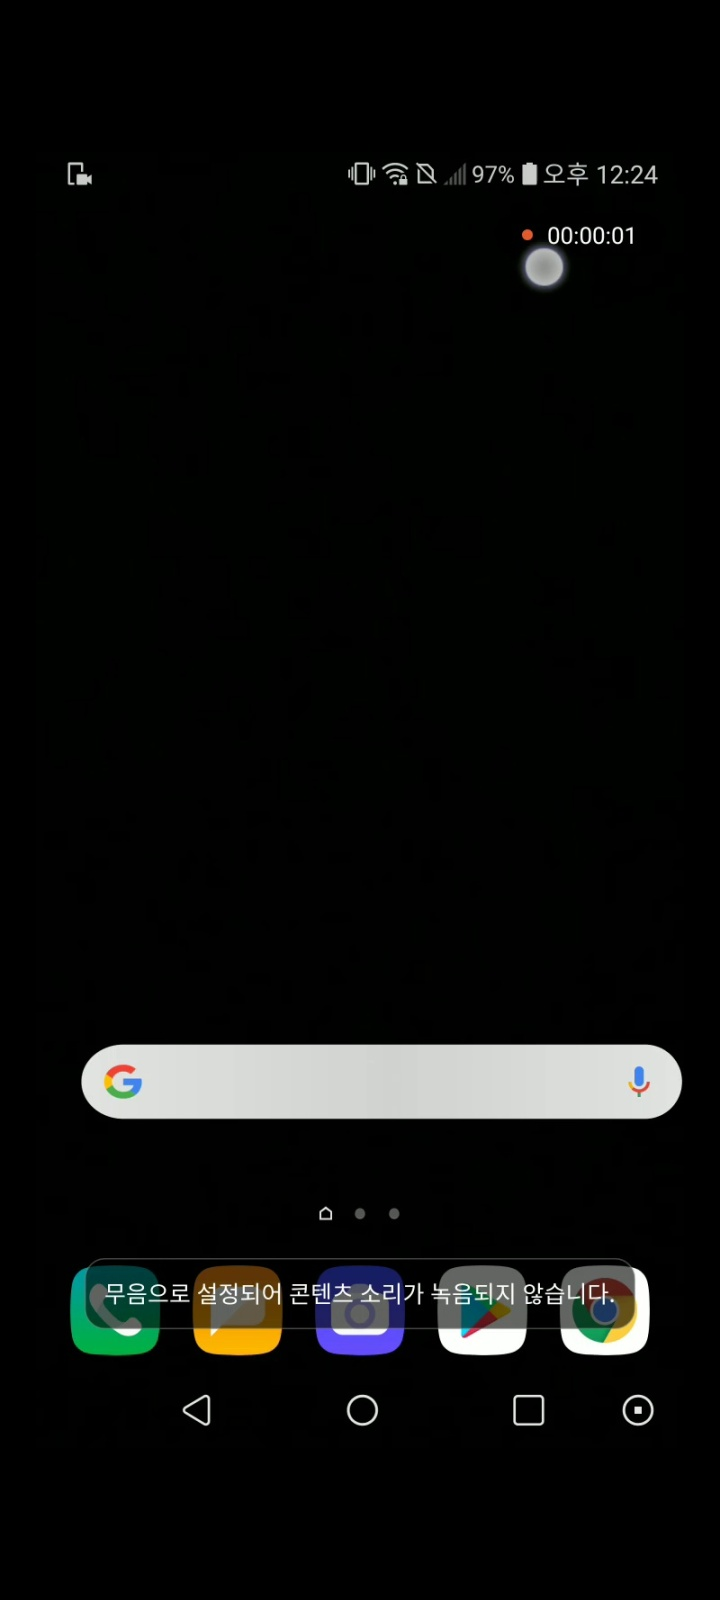Cursor: (522, 245, 567, 290)
